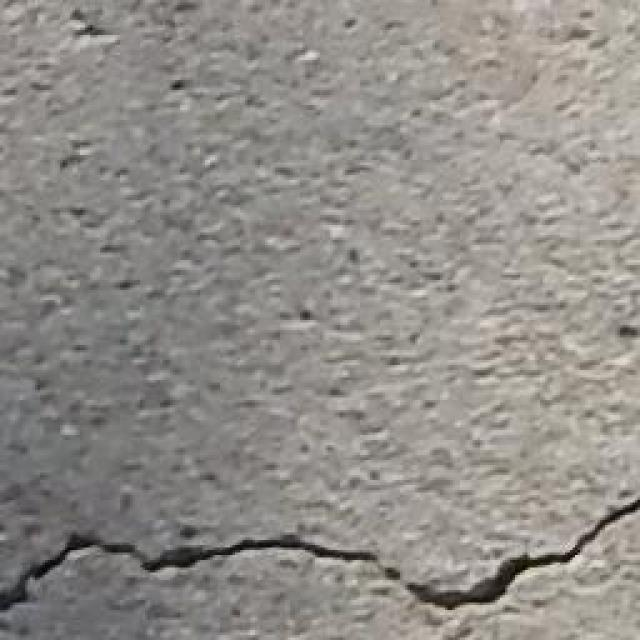concrete-crack: (2, 495, 638, 623)
